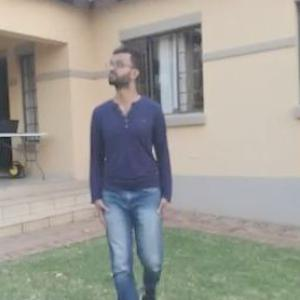follow: (90, 41, 170, 272)
